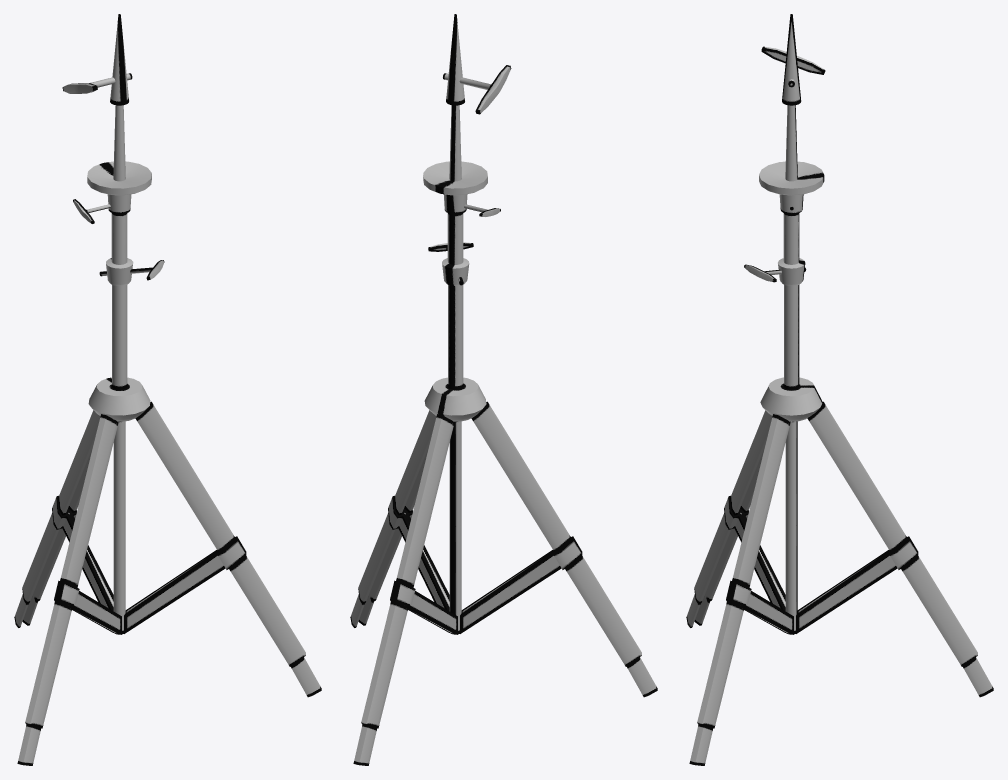
The model's file is drumsetV4_Hi-HatRest.obj.
The picture shows the model from 3 angles, left to right: view 1: azimuth 30°, elevation 25°; view 2: azimuth 150°, elevation 25°; view 3: azimuth 270°, elevation 25°; orthographic projection.
Visible parts, largest first — view 1: drumsetV4_Hi-HatRest_Cylinder.023; view 2: drumsetV4_Hi-HatRest_Cylinder.023; view 3: drumsetV4_Hi-HatRest_Cylinder.023.
Boxes of the visible parts, x1,y1,x2,y2 form: drumsetV4_Hi-HatRest_Cylinder.023: (14, 14, 321, 765); drumsetV4_Hi-HatRest_Cylinder.023: (350, 14, 657, 765); drumsetV4_Hi-HatRest_Cylinder.023: (686, 14, 993, 765).
Bounding box in the file's own units: 1.14 × 2.44 × 0.9962.
